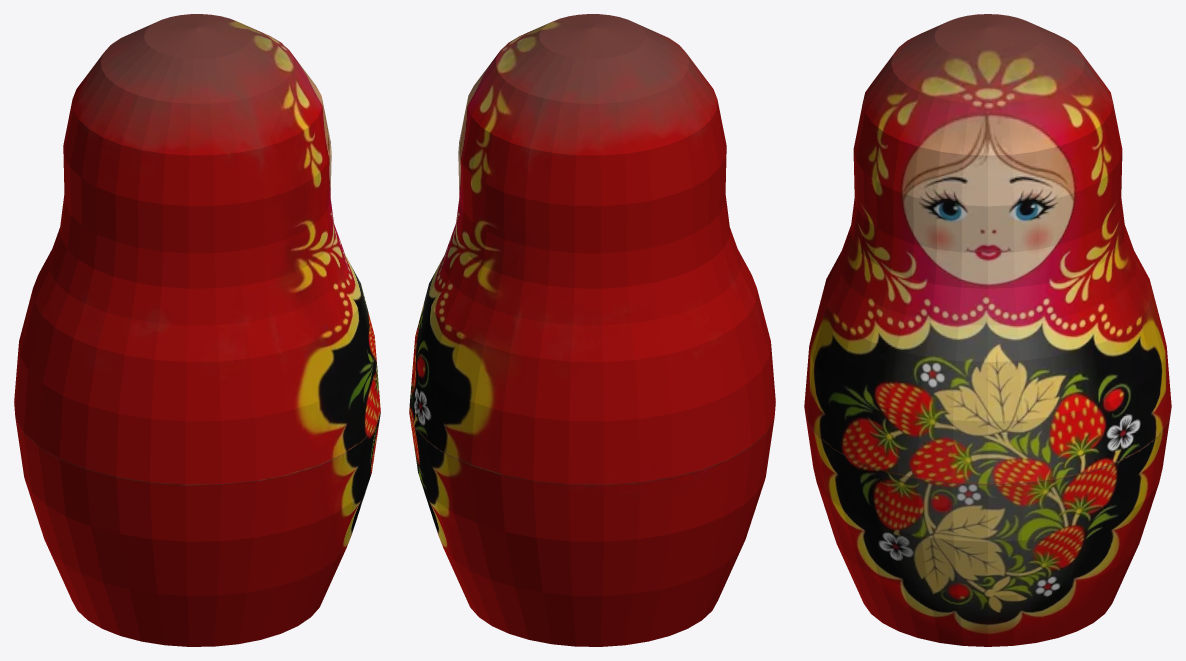
The model's file is matryoshka.glb.
3 views of the same model, side by side, from view 1: azimuth 30°, elevation 25°; view 2: azimuth 150°, elevation 25°; view 3: azimuth 270°, elevation 25° (orthographic).
Visible parts, largest first — view 1: matryoshka; view 2: matryoshka; view 3: matryoshka.
Part boxes in pixels (x1=…): matryoshka: x1=14, y1=14, x2=380, y2=646; matryoshka: x1=409, y1=14, x2=775, y2=646; matryoshka: x1=804, y1=14, x2=1171, y2=646.
Size of the model in its own units: 17.65 by 30.01 by 17.65.
1 material, 1 textured.
